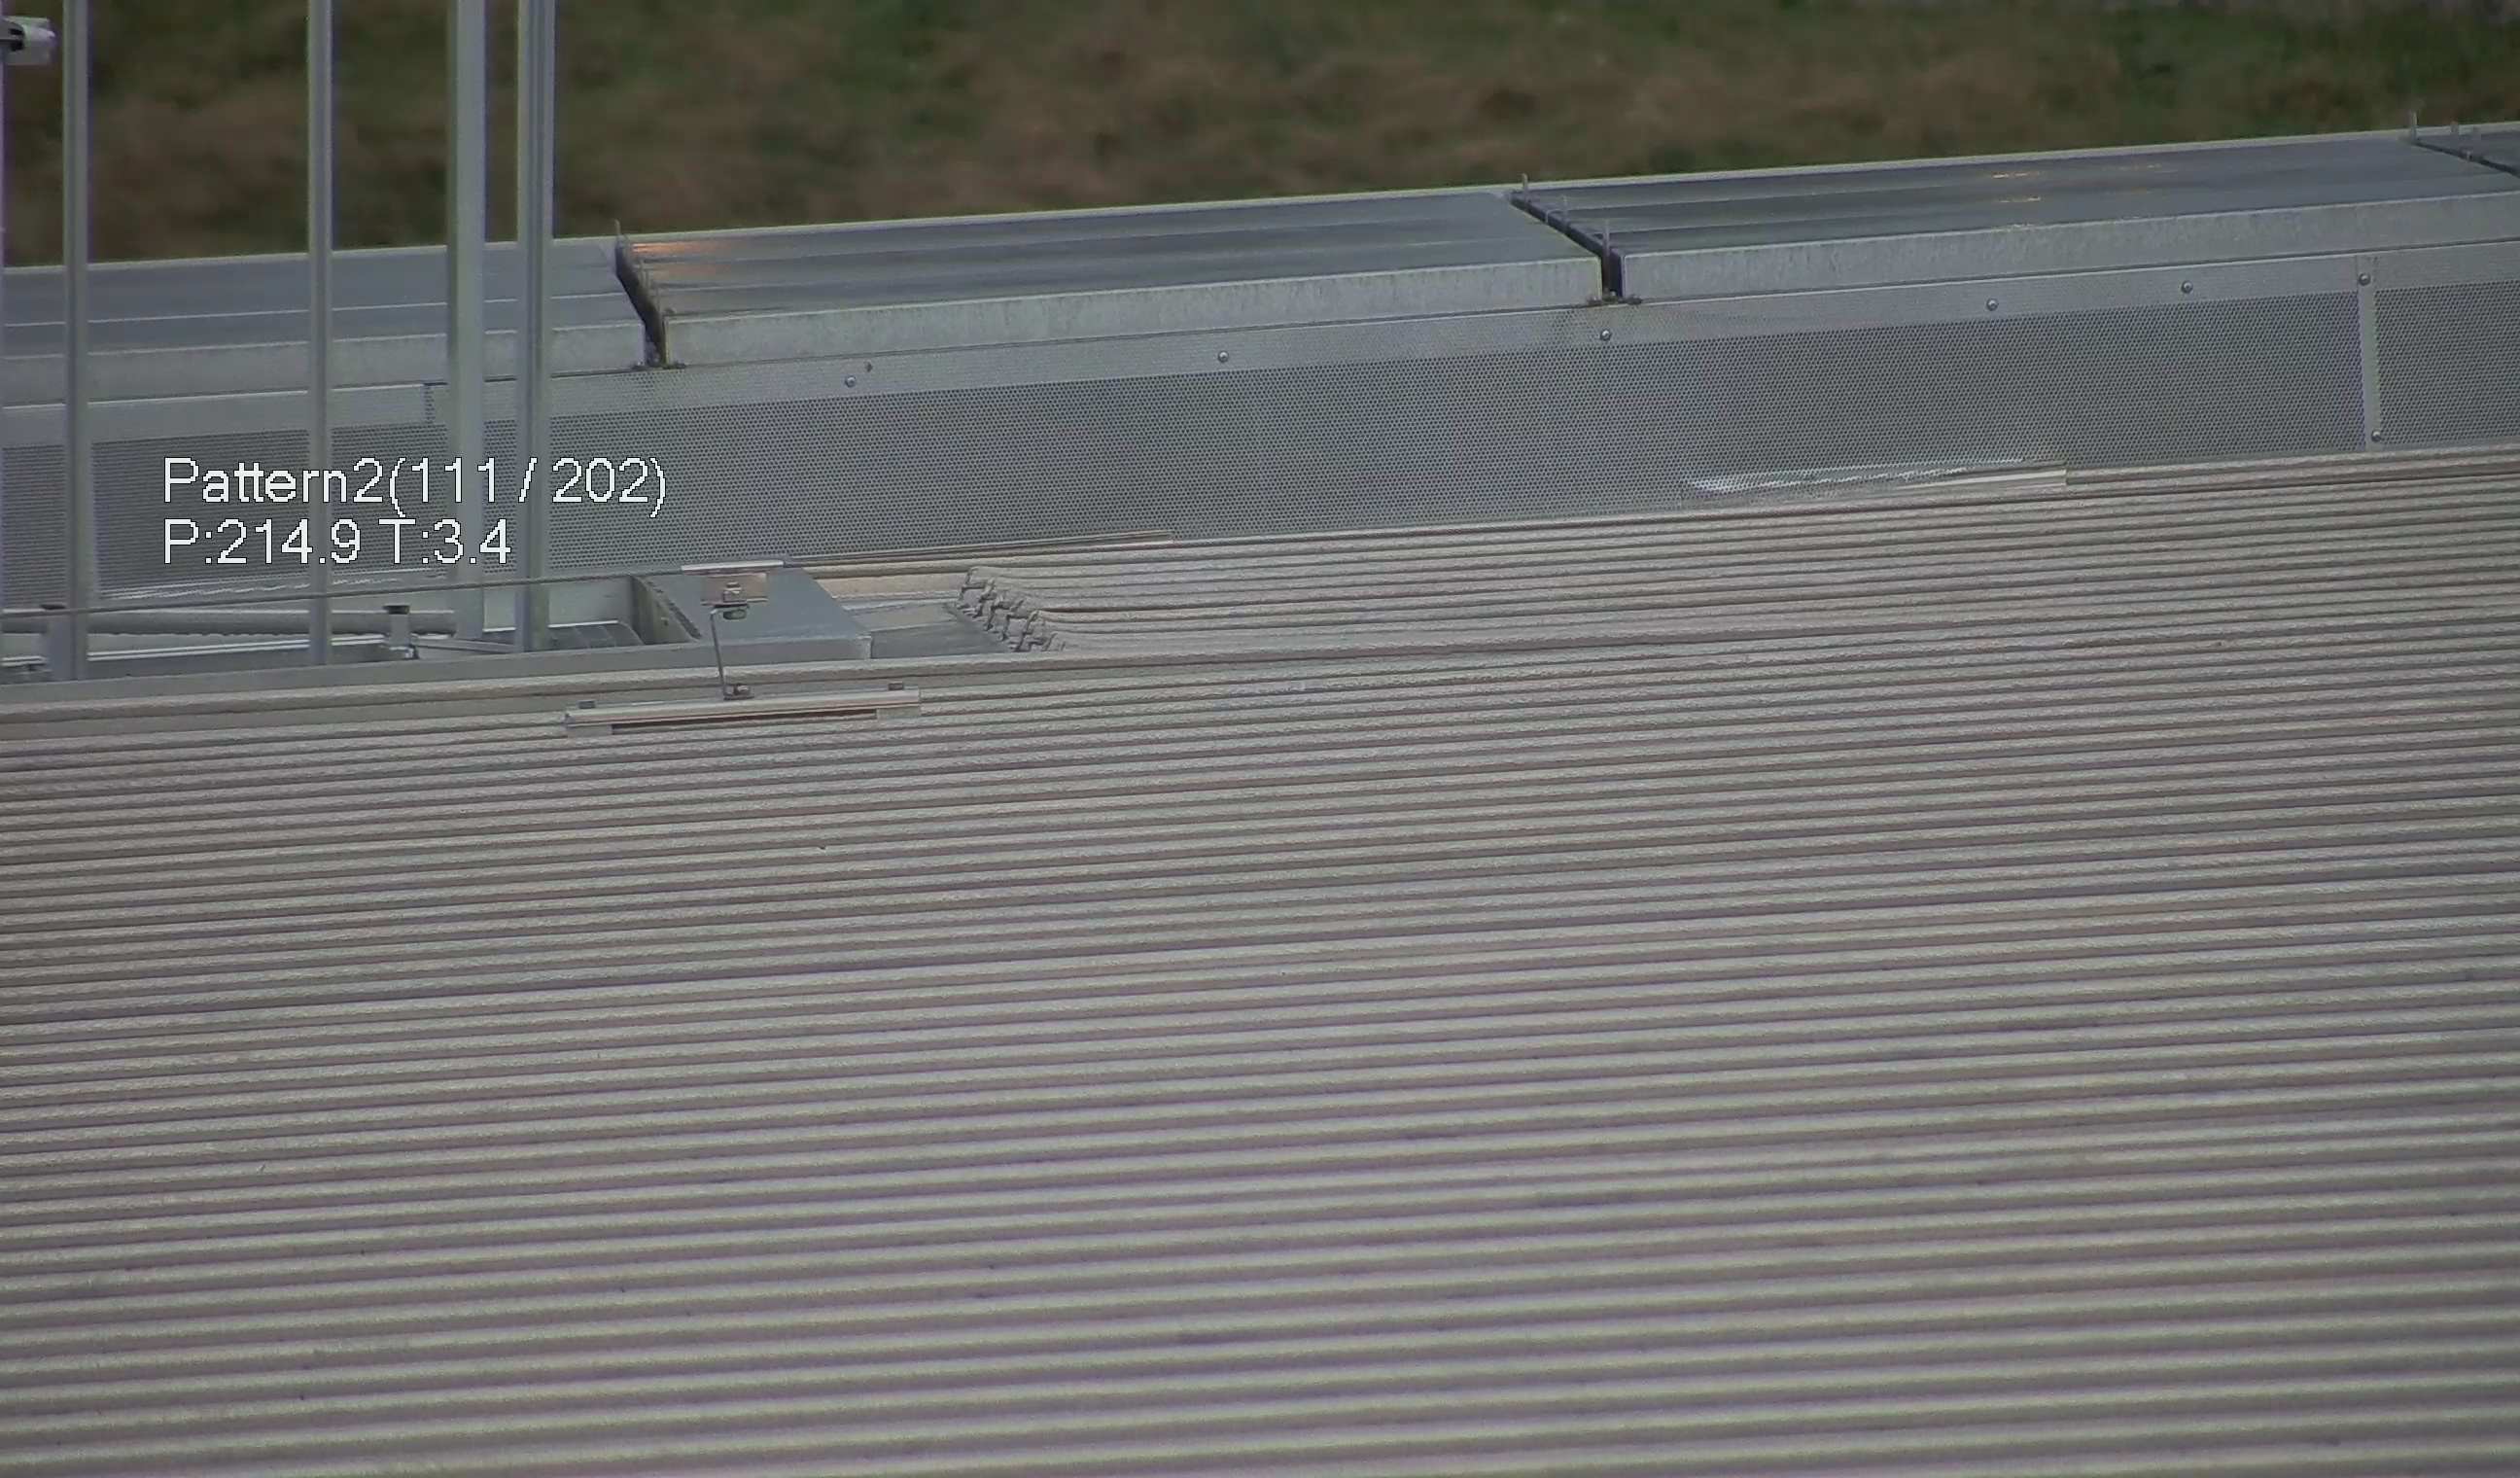Other: (580, 220, 681, 368)
